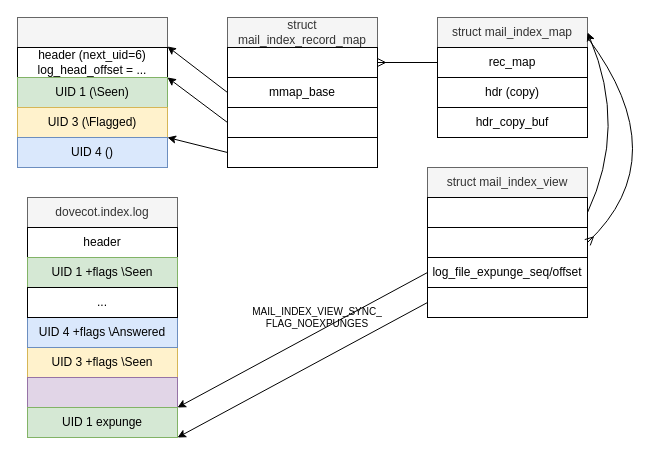
This 650x463 diagram has some shape labels left out. The centre of each missing label's shape, as x and y in pixels:
dovecot.index: (92,32)
last_appended_uid: (302,152)
log_file_head_seq/offset: (507,302)
map: (507,212)
map_refs: (507,242)
maps: (302,62)
records: (302,122)
UID 6 Append (\Draft): (102,392)
